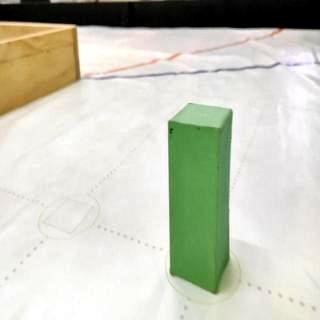greenbox: (167, 100, 235, 294)
